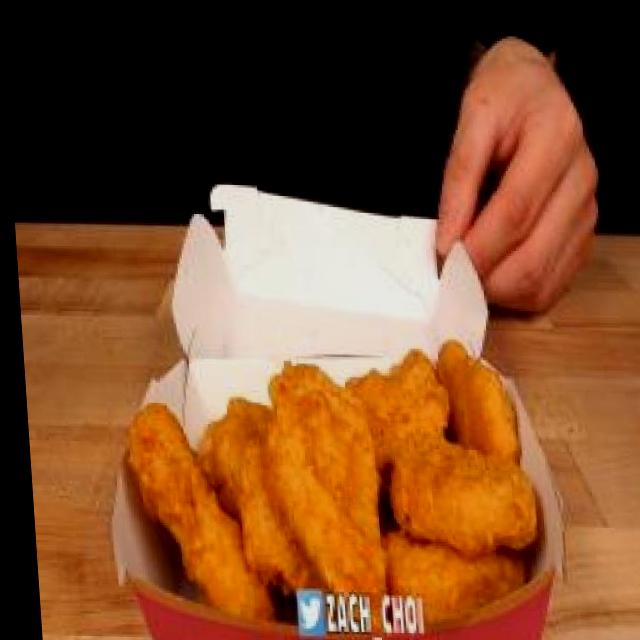nugget: (101, 311, 560, 624)
